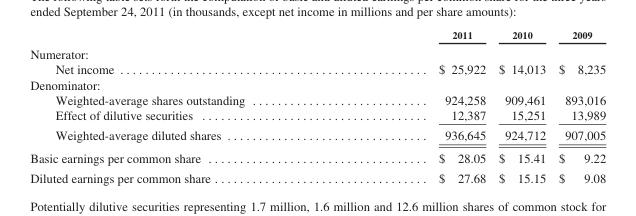table: (29, 28, 605, 184)
table column: (29, 28, 341, 184), (341, 28, 491, 184), (491, 28, 551, 184), (551, 28, 605, 184)
table column header: (29, 28, 605, 43)
table projected row header: (29, 43, 605, 61), (29, 76, 605, 91)
table row: (29, 124, 605, 146), (29, 146, 605, 167), (29, 43, 605, 61), (29, 107, 605, 124), (29, 167, 605, 184), (29, 91, 605, 107), (29, 28, 605, 43), (29, 61, 605, 76), (29, 76, 605, 91)
